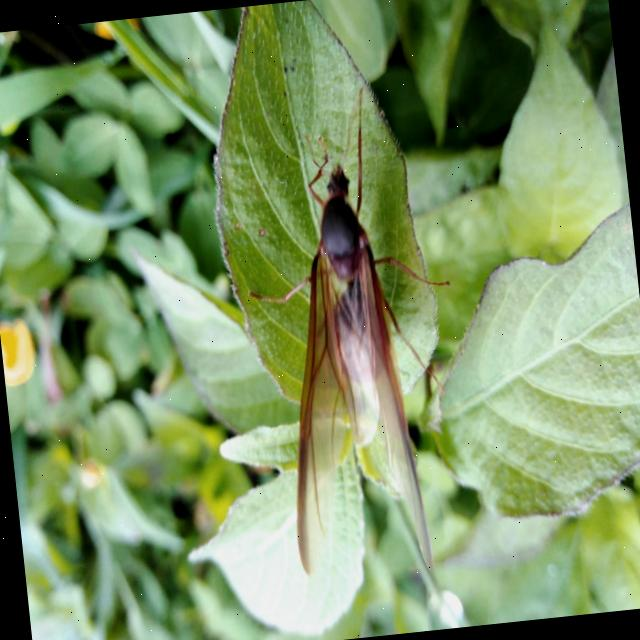Alive-Male-Alate: (226, 78, 482, 589)
